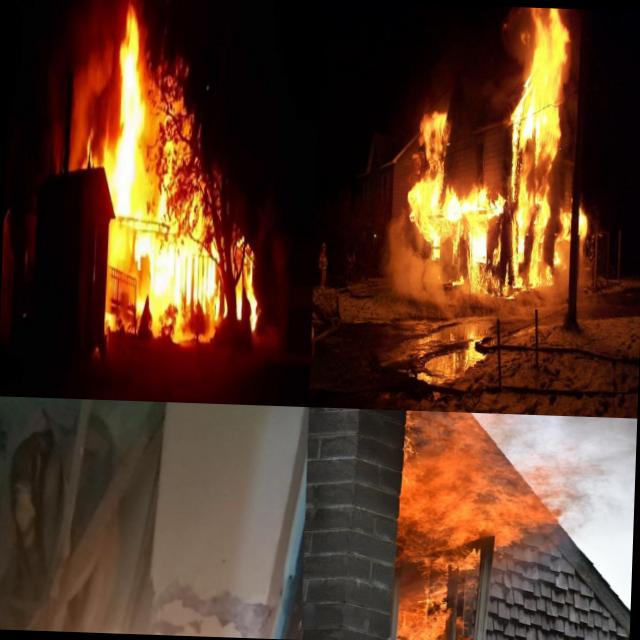fire: (406, 3, 584, 252), (398, 456, 550, 549), (392, 544, 486, 640), (108, 6, 152, 210), (402, 411, 491, 458), (452, 248, 556, 286), (80, 606, 190, 636), (241, 256, 267, 338), (80, 119, 112, 171), (576, 202, 592, 238)
smoke: (494, 413, 636, 463), (551, 460, 635, 533), (451, 284, 582, 329), (382, 248, 454, 318), (556, 250, 594, 289), (385, 204, 407, 246)
